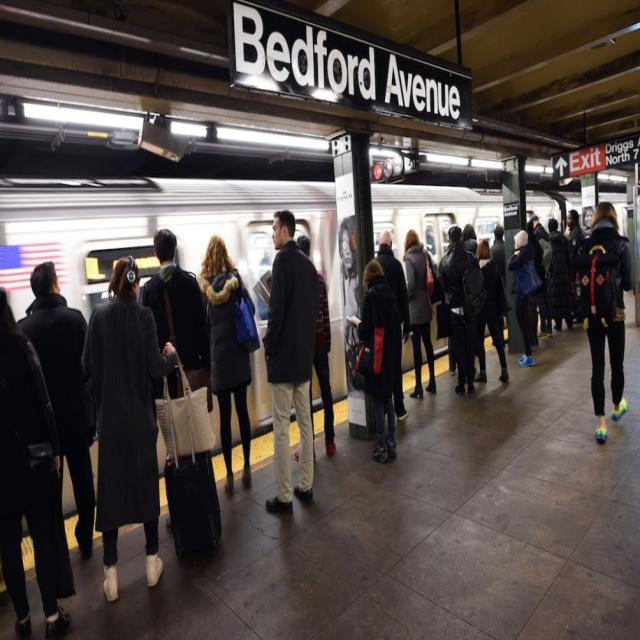body: (78, 251, 180, 605), (11, 255, 101, 589), (0, 282, 75, 639), (142, 227, 216, 535), (260, 208, 321, 516), (195, 232, 261, 492), (579, 198, 635, 444), (292, 233, 338, 464), (356, 258, 402, 464), (373, 227, 412, 424), (442, 226, 480, 397), (472, 237, 513, 385), (402, 228, 437, 400), (334, 210, 364, 396), (506, 228, 544, 369), (436, 225, 458, 378), (546, 216, 574, 332), (528, 215, 554, 338), (566, 208, 586, 325), (490, 223, 508, 347), (250, 241, 277, 322), (424, 221, 451, 276), (461, 221, 479, 259), (579, 203, 596, 242), (531, 216, 547, 242), (372, 225, 381, 261), (559, 223, 571, 240)
